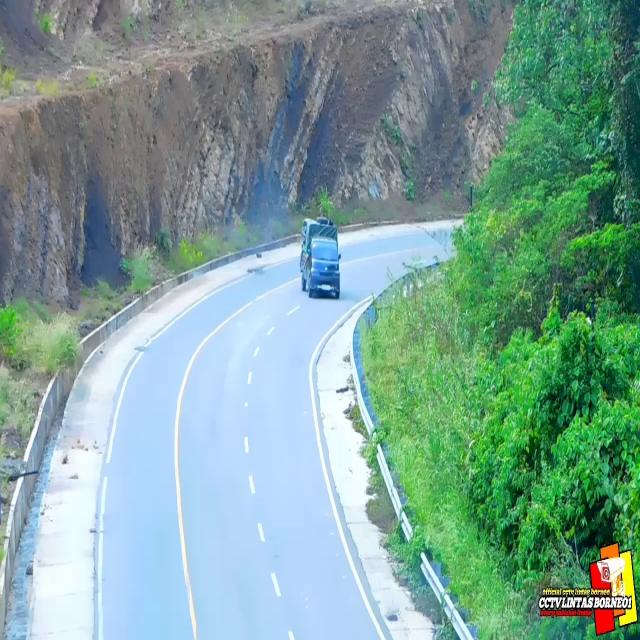Golongan IVB: (300, 238, 342, 300)
